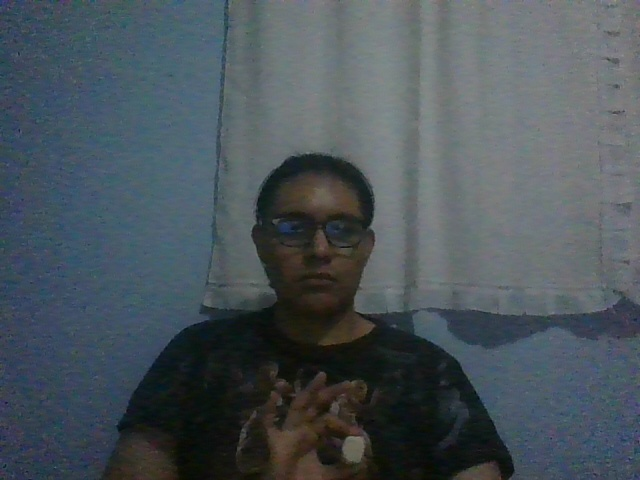goma: (339, 435, 366, 466)
